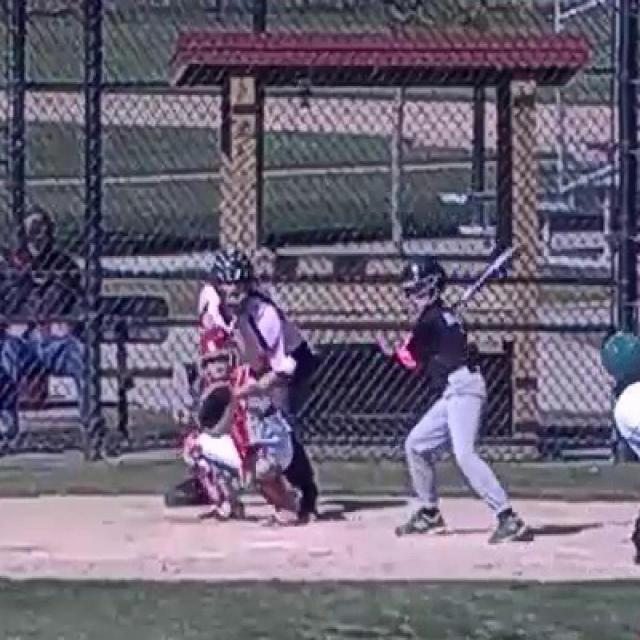baseball: (282, 357, 296, 373)
